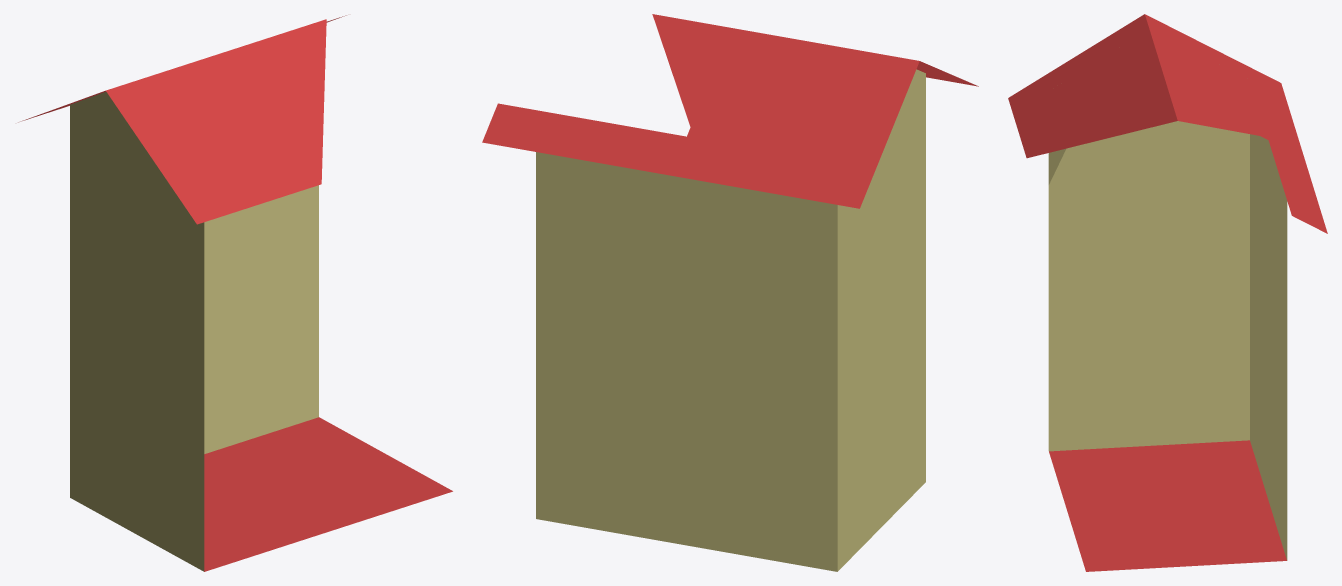
The picture shows the model from 3 angles, left to right: view 1: azimuth 30°, elevation 25°; view 2: azimuth 150°, elevation 25°; view 3: azimuth 270°, elevation 25°; orthographic projection. The views are drawn at different scales.
Bounding box in the file's own units: 9.95 × 8.79 × 12.64.
